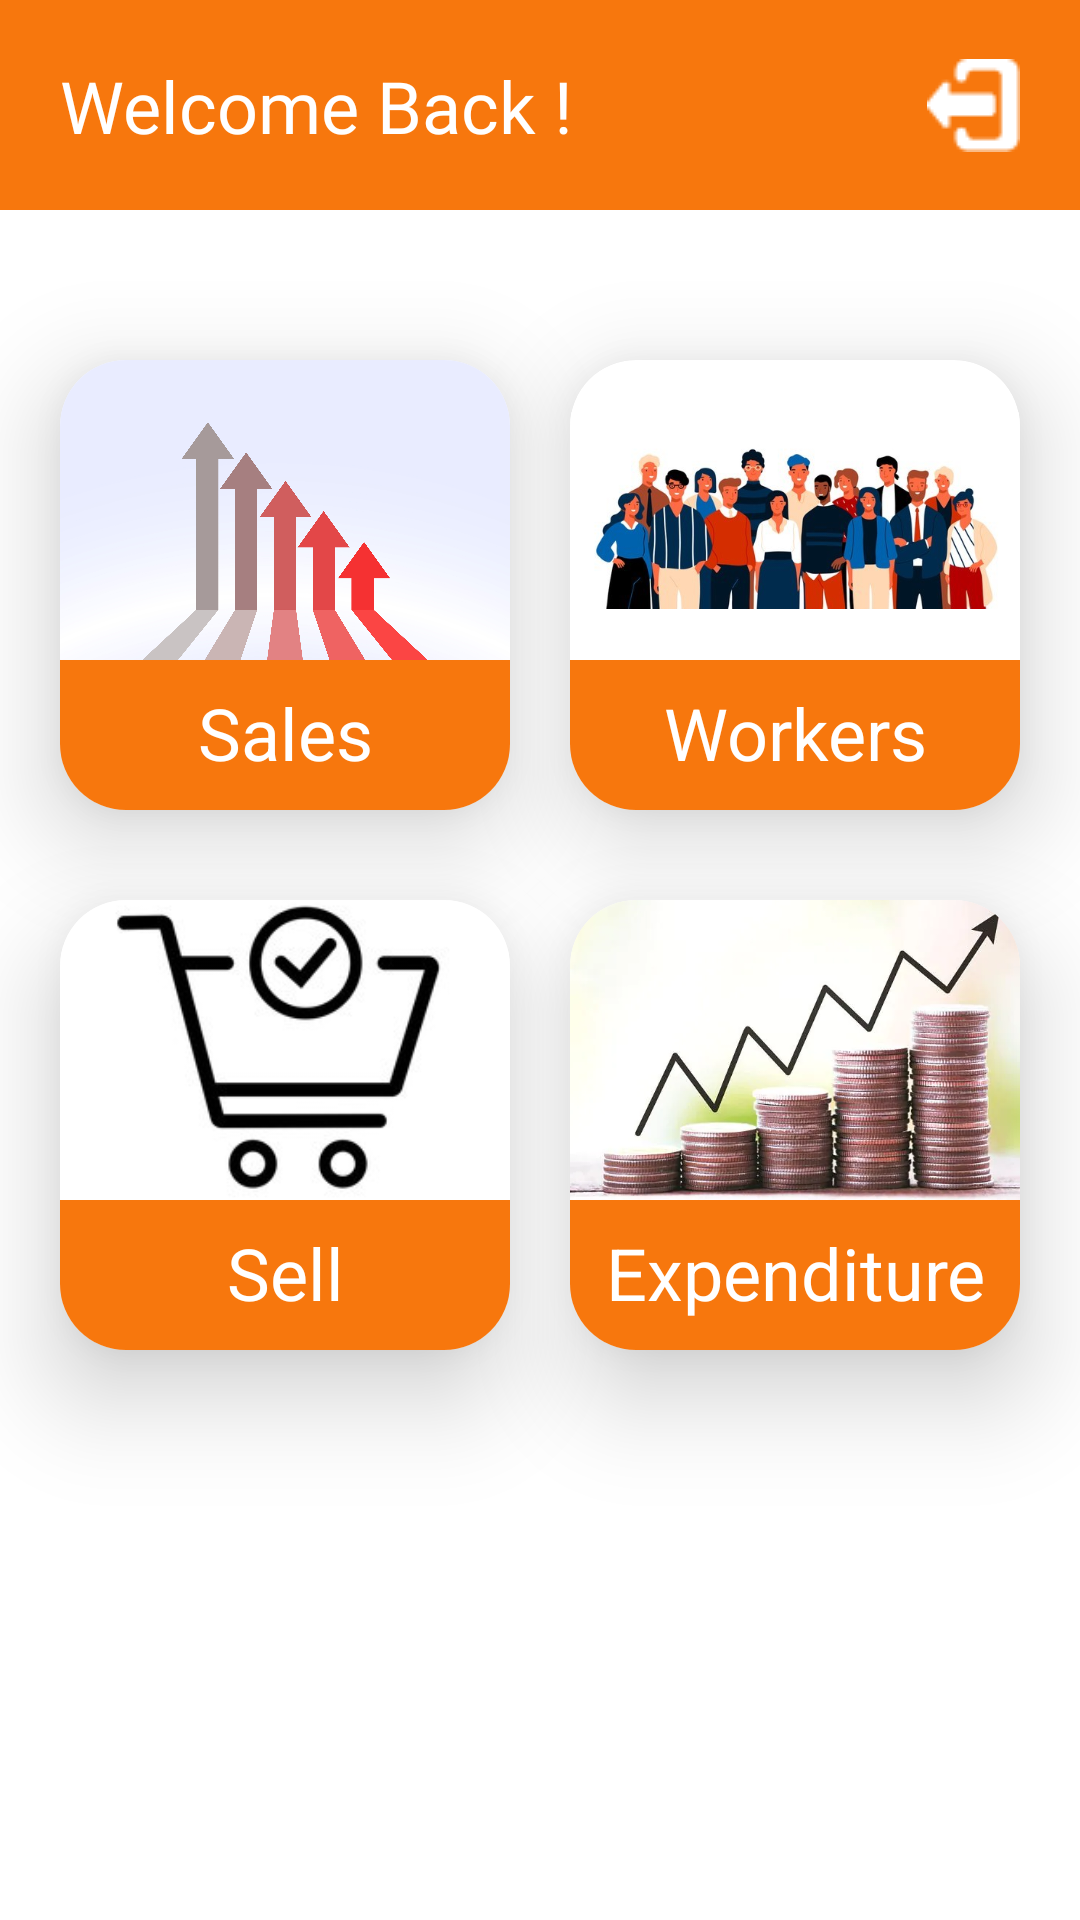

Icons on this 1080 × 1920 Android screen, each with its box as (x1, y1, x2, y2):
exiticon: (927, 59, 1020, 152)
